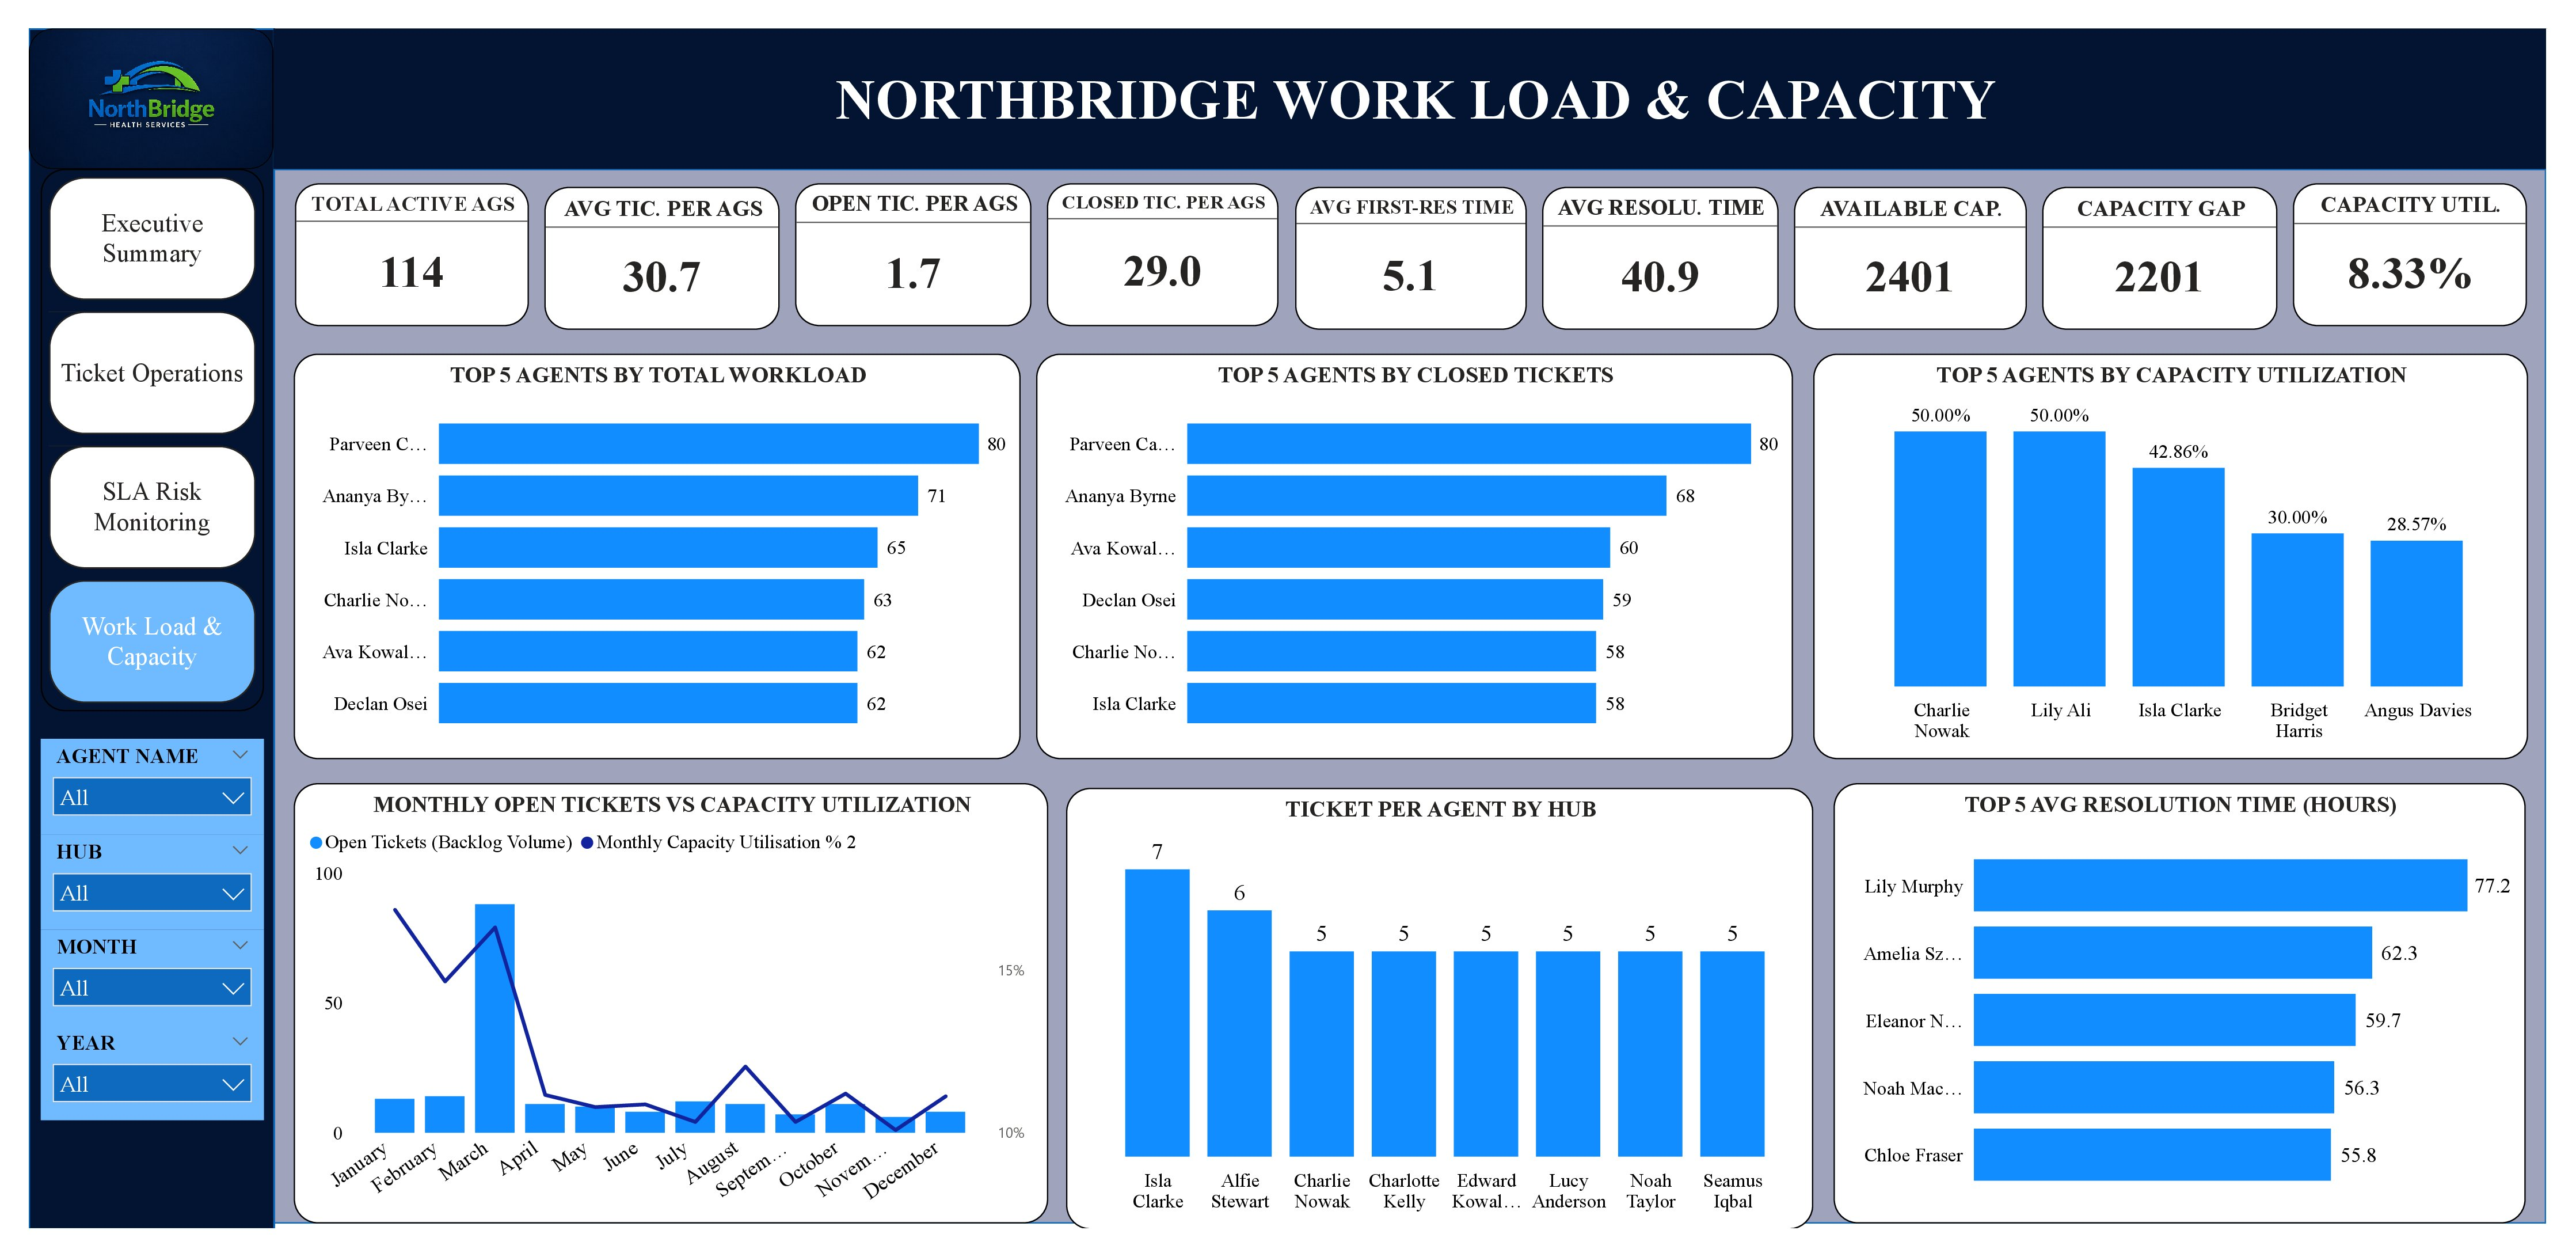

The page's visual inventory and layout, read from the dashboard file:
{"tool":"powerbi","page":{"name":"Work Load & Capacity","canvas":[2100,1000],"ordinal":3},"visuals":[{"type":"shape","box":[203.7,116.8,1895.5,879.4],"z":0},{"type":"shape","box":[0,0,204.7,1000.8],"z":1000},{"type":"shape","title":"N","box":[203.7,0,1895.5,116.8],"z":2000},{"type":"cardVisual","title":"TOTAL ACTIVE AGS","fields":{"Data":["DIM_AGENTS.Active Agents"]},"box":[221.8,128.5,195,119.1],"z":3000},{"type":"cardVisual","title":"AVG TIC. PER AGS","fields":{"Data":["FCT_TICKETS.Average Tickets per Agent"]},"box":[430,131.7,196.3,119.2],"z":4000},{"type":"cardVisual","title":"CLOSED TIC. PER AGS","fields":{"Data":["DIM_AGENTS.Closed Tickets per Agent"]},"box":[848.7,129.2,193.8,119.2],"z":5000},{"type":"cardVisual","title":"CAPACITY GAP","fields":{"Data":["DIM_AGENTS.Capacity Gap"]},"box":[1678.7,131.7,196.3,119.2],"z":6000},{"type":"cardVisual","title":"AVG FIRST-RES TIME","fields":{"Data":["FCT_TICKETS.Average First Response Time(hrs)"]},"box":[1055.6,131.7,193.8,119.2],"z":7000},{"type":"cardVisual","title":"AVG RESOLU. TIME","fields":{"Data":["FCT_TICKETS.Average Resolution Time(hrs)"]},"box":[1262.4,131.7,196.3,119.2],"z":8000},{"type":"cardVisual","title":"CAPACITY UTIL. ","fields":{"Data":["DIM_AGENTS.Capacity Utilisation %"]},"box":[1888,129.2,195,119.2],"z":9000},{"type":"barChart","title":"TOP 5 AGENTS BY TOTAL WORKLOAD","fields":{"Category":["DIM_AGENTS.FULL_NAME"],"Y":["FCT_TICKETS.Agent Workload"]},"box":[221.1,270.8,606.2,337.9],"z":10000},{"type":"image","box":[0,0,203.7,116.8],"z":11000},{"type":"cardVisual","title":"OPEN TIC. PER AGS","fields":{"Data":["DIM_AGENTS.Open Tickets per Agent"]},"box":[639.3,129.2,196.3,119.2],"z":12000},{"type":"barChart","title":"TOP 5 AGENTS BY CLOSED TICKETS","fields":{"Category":["DIM_AGENTS.FULL_NAME"],"Y":["FCT_TICKETS.Resolved Tickets"]},"box":[839.7,270.8,631,337.9],"z":13000},{"type":"clusteredColumnChart","title":"TOP 5 AGENTS BY CAPACITY UTILIZATION","fields":{"Category":["DIM_AGENTS.FULL_NAME"],"Y":["DIM_AGENTS.Capacity Utilisation %"]},"box":[1488.1,270.8,596.2,337.9],"z":14000},{"type":"lineClusteredColumnComboChart","title":"MONTHLY OPEN TICKETS VS CAPACITY UTILIZATION","fields":{"Y":["FCT_TICKETS.Open Tickets (Backlog Volume)"],"Category":["DIM_DATE.DATE_KEY.Variation.Date Hierarchy.Month"],"Y2":["DIM_AGENTS.Monthly Capacity Utilisation % 2"]},"box":[221.1,628.5,628.5,367.7],"z":15000},{"type":"clusteredColumnChart","title":"TICKET PER AGENT BY HUB","fields":{"Category":["DIM_AGENTS.FULL_NAME"],"Y":["FCT_TICKETS.Open Tickets (Backlog Volume)"]},"box":[864.5,633.5,623.5,367.7],"z":16000},{"type":"barChart","title":"TOP 5 AVG RESOLUTION TIME (HOURS)","fields":{"Category":["DIM_AGENTS.FULL_NAME"],"Y":["FCT_TICKETS.Average Resolution Time(hrs)"]},"box":[1505.5,628.5,576.3,367.7],"z":17000},{"type":"cardVisual","title":"AVAILABLE CAP.","fields":{"Data":["DIM_AGENTS.Available Daily Capacity"]},"box":[1471.8,131.7,193.8,119.2],"z":18000},{"type":"pageNavigator","box":[9.9,116.8,186.3,452.1],"z":19000},{"type":"slicer","fields":{"Values":["DIM_DATE.YEAR_MONTH.Variation.Date Hierarchy.Year"]},"box":[9.9,830.6,186.3,79.5],"z":20000},{"type":"slicer","fields":{"Values":["DIM_DATE.YEAR_MONTH.Variation.Date Hierarchy.Month"]},"box":[9.9,751.1,186.3,79.5],"z":21000},{"type":"slicer","fields":{"Values":["DIM_AGENTS.HUB"]},"box":[9.9,671.6,186.3,79.5],"z":22000},{"type":"slicer","fields":{"Values":["DIM_AGENTS.FULL_NAME"]},"box":[9.9,592.1,186.3,79.5],"z":23000}]}

Visuals, with their boxes on the page's 2100x1000 design canvas (x1, y1, x2, y2). These are canvas units, not pixel positions in the 2576x1257 screenshot, which may show the page scaled, cropped or inside an application window:
shape: (204, 117, 2099, 996)
shape: (0, 0, 205, 1001)
"N" shape: (204, 0, 2099, 117)
"TOTAL ACTIVE AGS" cardVisual: (222, 128, 417, 248)
"AVG TIC. PER AGS" cardVisual: (430, 132, 626, 251)
"CLOSED TIC. PER AGS" cardVisual: (849, 129, 1042, 248)
"CAPACITY GAP" cardVisual: (1679, 132, 1875, 251)
"AVG FIRST-RES TIME" cardVisual: (1056, 132, 1249, 251)
"AVG RESOLU. TIME" cardVisual: (1262, 132, 1459, 251)
"CAPACITY UTIL. " cardVisual: (1888, 129, 2083, 248)
"TOP 5 AGENTS BY TOTAL WORKLOAD" barChart: (221, 271, 827, 609)
image: (0, 0, 204, 117)
"OPEN TIC. PER AGS" cardVisual: (639, 129, 836, 248)
"TOP 5 AGENTS BY CLOSED TICKETS" barChart: (840, 271, 1471, 609)
"TOP 5 AGENTS BY CAPACITY UTILIZATION" clusteredColumnChart: (1488, 271, 2084, 609)
"MONTHLY OPEN TICKETS VS CAPACITY UTILIZATION" lineClusteredColumnComboChart: (221, 628, 850, 996)
"TICKET PER AGENT BY HUB" clusteredColumnChart: (864, 634, 1488, 1001)
"TOP 5 AVG RESOLUTION TIME (HOURS)" barChart: (1506, 628, 2082, 996)
"AVAILABLE CAP." cardVisual: (1472, 132, 1666, 251)
pageNavigator: (10, 117, 196, 569)
slicer - DIM_DATE.YEAR_MONTH.Variation.Date Hierarchy.Year: (10, 831, 196, 910)
slicer - DIM_DATE.YEAR_MONTH.Variation.Date Hierarchy.Month: (10, 751, 196, 831)
slicer - DIM_AGENTS.HUB: (10, 672, 196, 751)
slicer - DIM_AGENTS.FULL_NAME: (10, 592, 196, 672)
